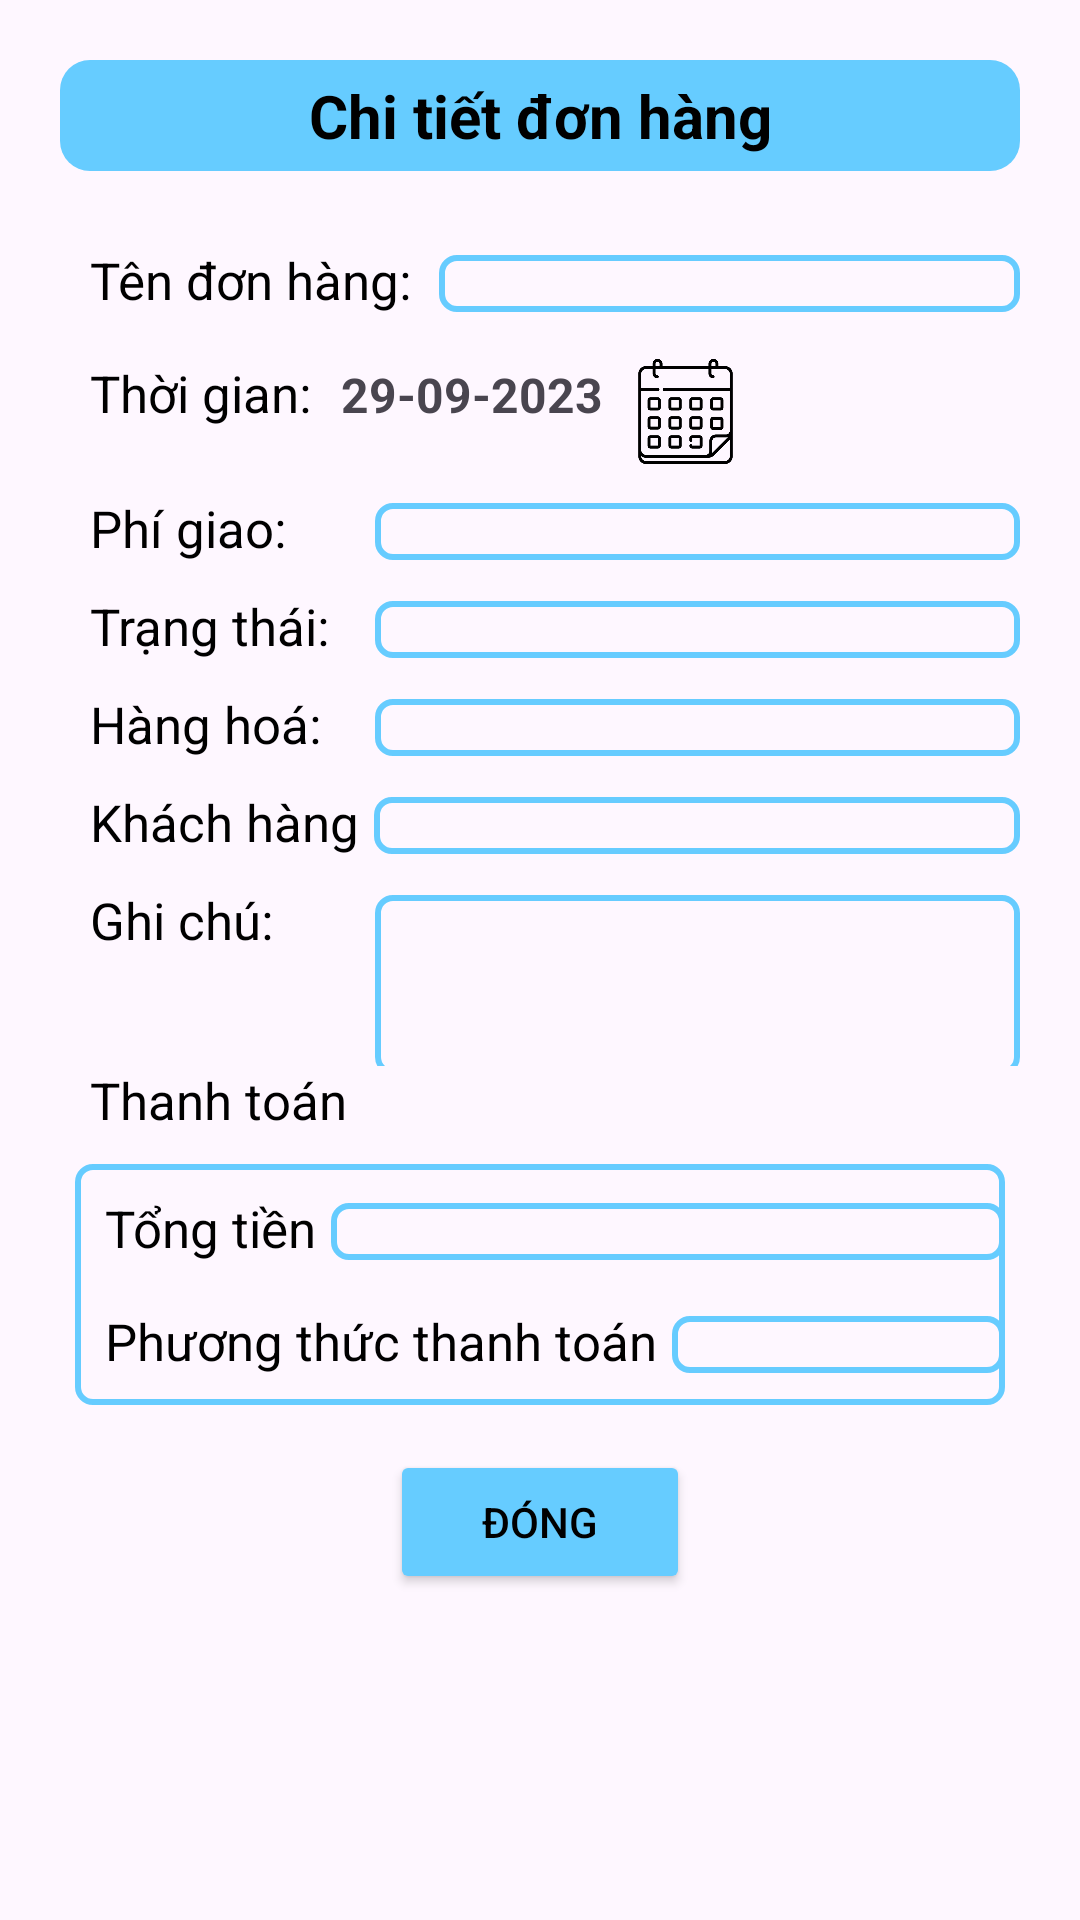

Screen size 1080×1920. Icon name, then its box in pixels as bbox=[x1, y1, x2, y2]:
calendar: bbox=[638, 359, 733, 464]
